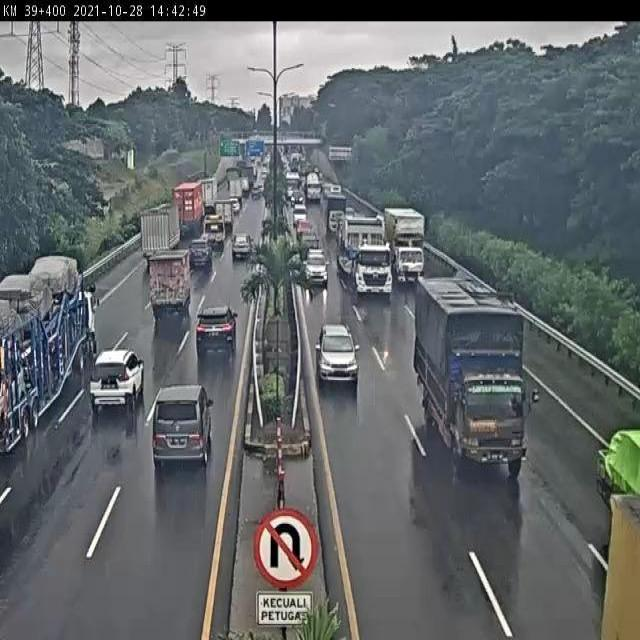big truck: (0, 257, 100, 463)
car: (151, 384, 211, 471), (86, 348, 145, 419), (315, 325, 360, 387), (196, 296, 238, 341), (305, 249, 328, 288), (190, 238, 213, 266), (233, 229, 256, 255)
mid truck: (201, 214, 224, 242)
truck-l-: (415, 278, 529, 478), (385, 210, 425, 282)
truck-m-: (149, 245, 192, 324), (141, 201, 187, 259)
truck-xl-: (340, 219, 395, 292)
